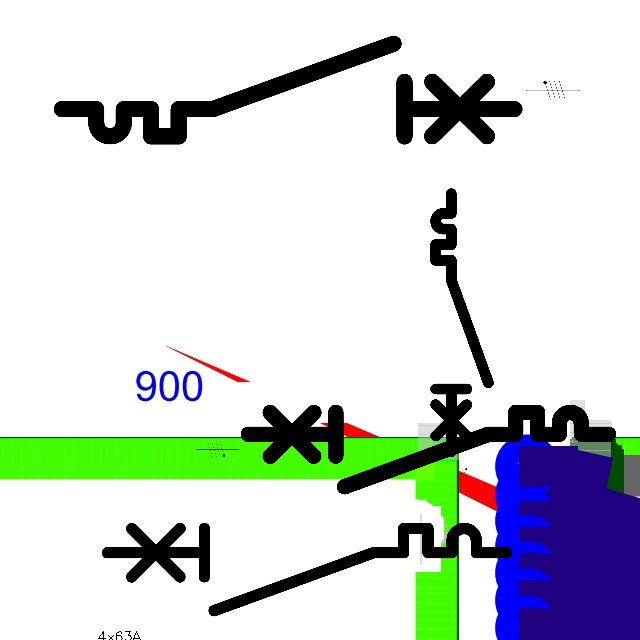interruptor_termomagnetico: (50, 32, 526, 148), (97, 518, 517, 621), (238, 403, 617, 495), (429, 187, 495, 459)
